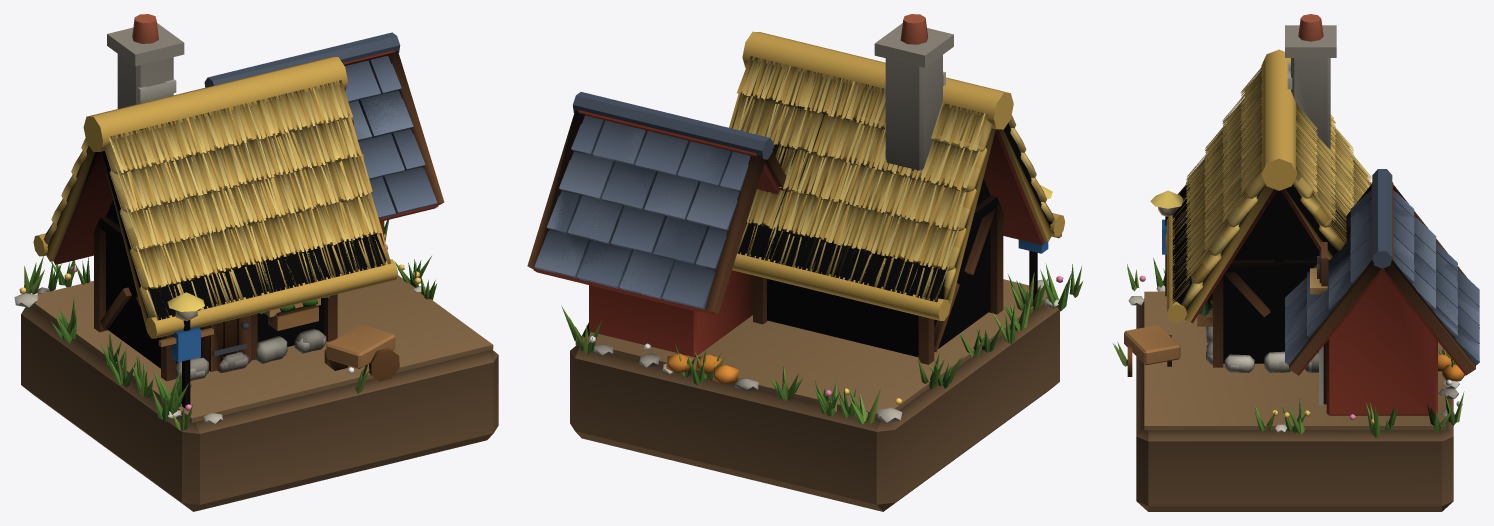
The model's file is farm.glb.
The picture shows the model from 3 angles, left to right: view 1: azimuth 30°, elevation 25°; view 2: azimuth 150°, elevation 25°; view 3: azimuth 270°, elevation 25°; orthographic projection. The views are drawn at different scales.
Parts seen in each view (by area): view 1: farm_l1, farm_l2, farm_l3; view 2: farm_l1, farm_l2, farm_l3; view 3: farm_l1, farm_l2, farm_l3.
Boxes of the visible parts, left/top/right/bottom form: farm_l1: left=19, top=14, right=498, bottom=511; farm_l2: left=14, top=56, right=436, bottom=431; farm_l3: left=43, top=56, right=437, bottom=423; farm_l1: left=527, top=14, right=1064, bottom=511; farm_l2: left=535, top=56, right=1082, bottom=424; farm_l3: left=547, top=56, right=1061, bottom=416; farm_l1: left=1136, top=14, right=1479, bottom=511; farm_l2: left=1112, top=68, right=1479, bottom=424; farm_l3: left=1128, top=62, right=1479, bottom=437.
Size of the model in its own units: 0.9536 by 1.06 by 0.9267.
